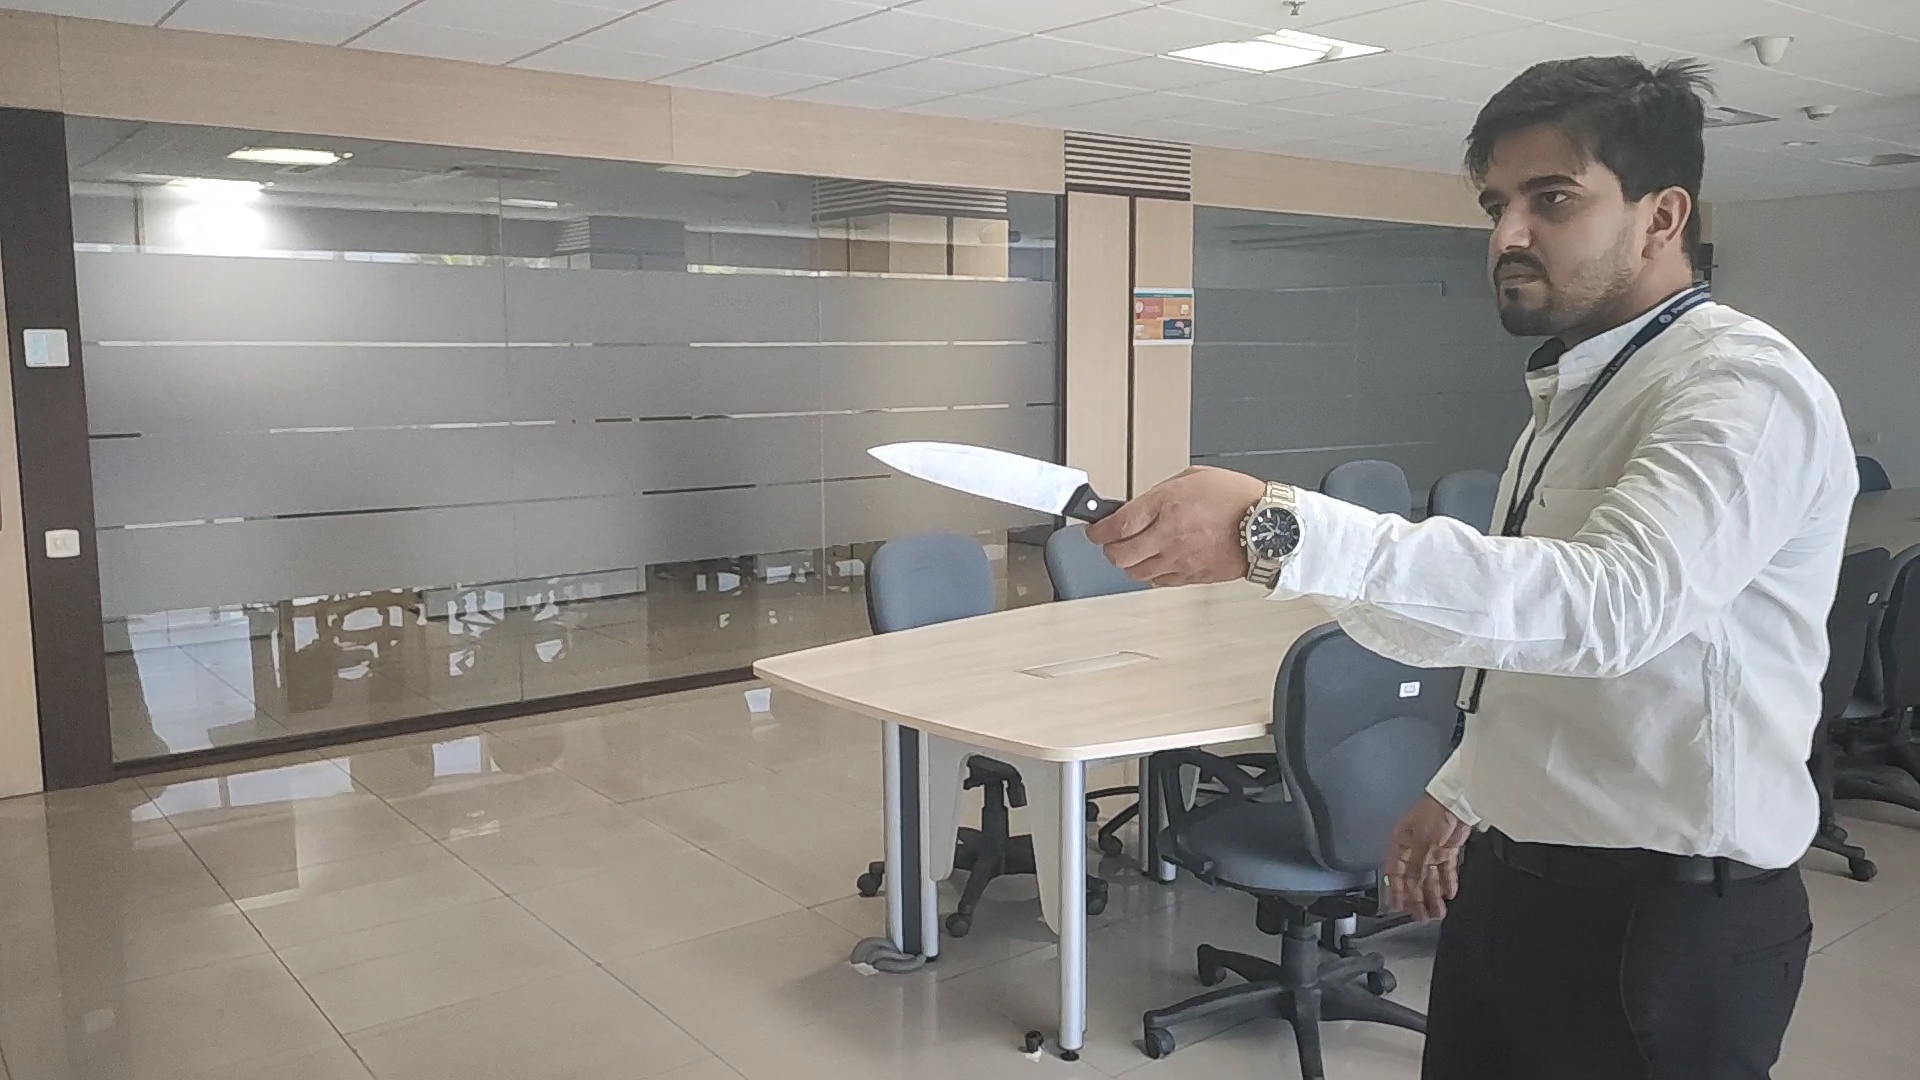knife: (866, 436, 1120, 517)
